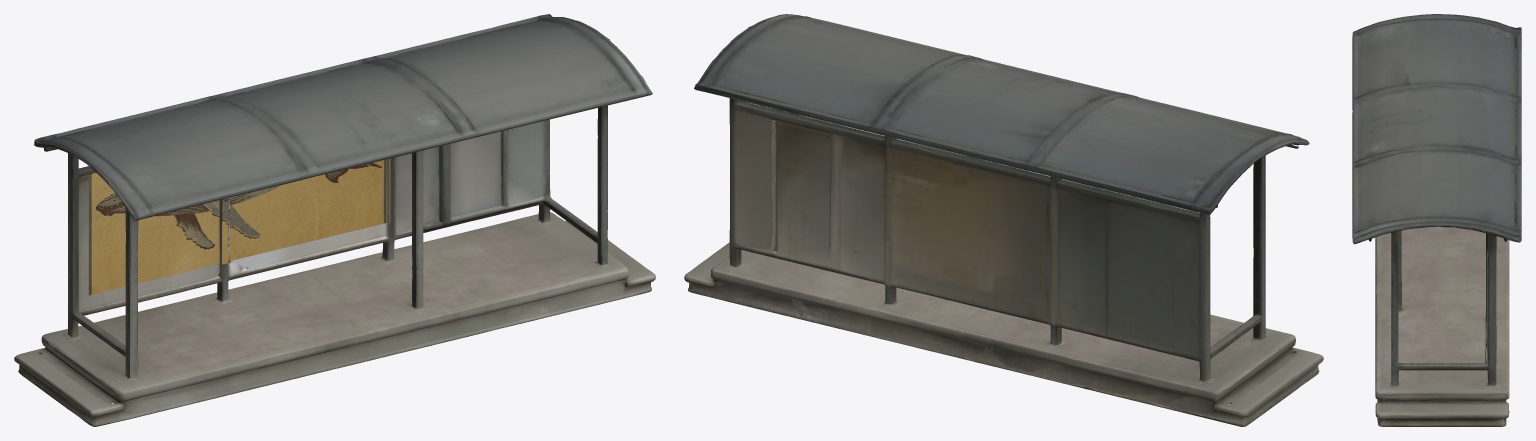
Rendered from platform.glb.
The picture shows the model from 3 angles, left to right: view 1: azimuth 30°, elevation 25°; view 2: azimuth 150°, elevation 25°; view 3: azimuth 270°, elevation 25°; orthographic projection. The views are drawn at different scales.
Parts seen in each view (by area): view 1: world; view 2: world; view 3: world.
Part boxes in pixels (<box>): world: <box>14,14,655,426</box>; world: <box>684,14,1323,426</box>; world: <box>1352,14,1521,426</box>.
Size of the model in its own units: 10 by 4 by 3.11.
Materials: 2 (2 with a texture image).
